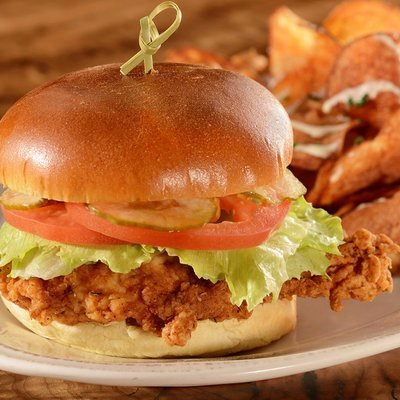soup: (0, 40, 366, 359)
